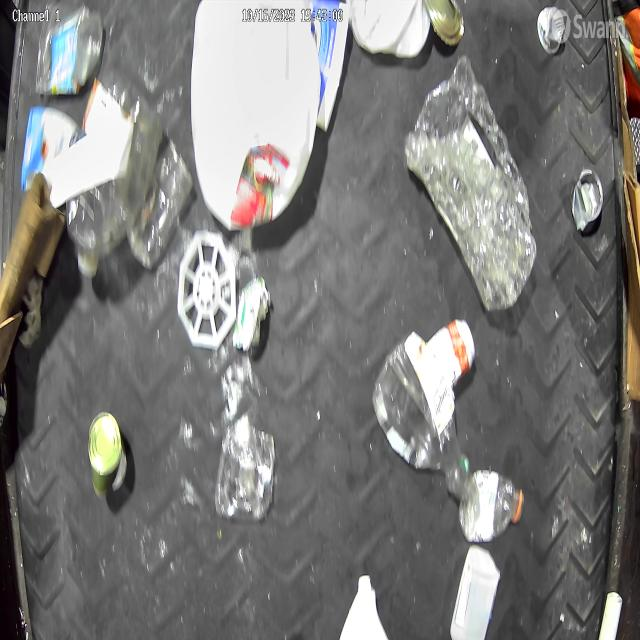can: (425, 318, 477, 389), (87, 410, 124, 498), (569, 167, 605, 234), (423, 0, 465, 43)
milk_jug: (190, 0, 322, 234), (338, 572, 388, 640)
plastic_bottle: (66, 71, 163, 279), (371, 331, 469, 498), (458, 466, 526, 546)
